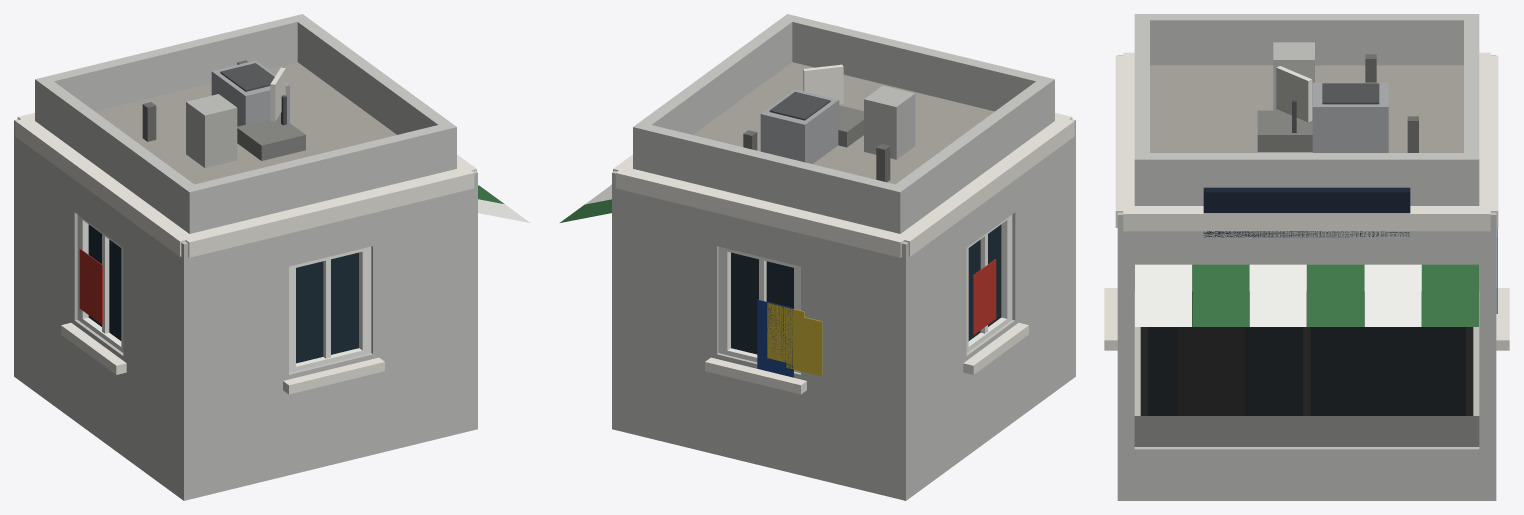
The picture shows the model from 3 angles, left to right: view 1: azimuth 30°, elevation 25°; view 2: azimuth 150°, elevation 25°; view 3: azimuth 270°, elevation 25°; orthographic projection. The views are drawn at different scales.
Visible parts, largest first — view 1: b11860_opaque, b11860_glass; view 2: b11860_opaque, b11860_glass; view 3: b11860_opaque, b11860_glass.
Part boxes in pixels (<box>): b11860_opaque: <box>14,14,529,500</box>; b11860_glass: <box>88,224,358,363</box>; b11860_opaque: <box>560,14,1075,500</box>; b11860_glass: <box>731,224,1001,354</box>; b11860_opaque: <box>1104,14,1509,500</box>; b11860_glass: <box>1148,291,1465,415</box>.
Bounding box in the file's own units: 2471 × 2099 × 2131.
